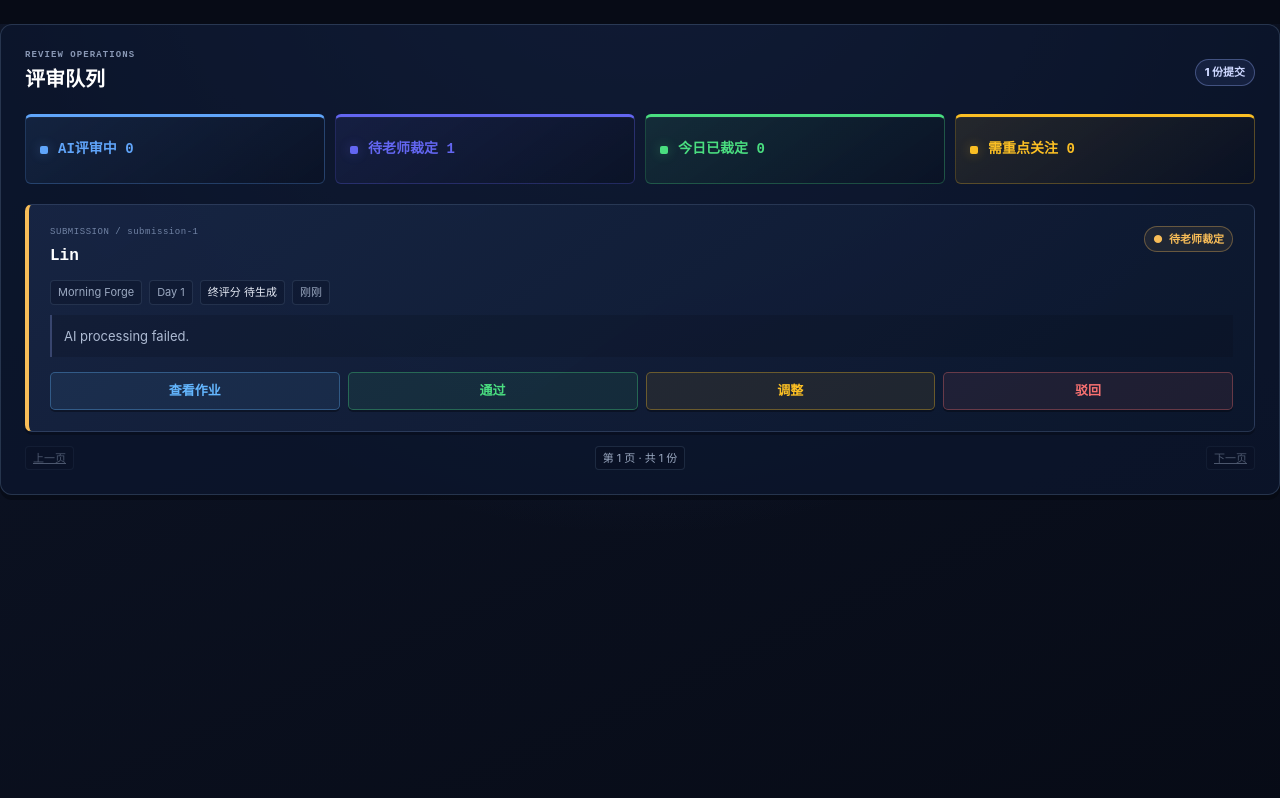
Scenario: ReviewQueue › loads and displays the complete submission detail
This screenshot has width=1280, height=798.
Click the button "查看作业" at (195, 391), box [50,372,340,410]
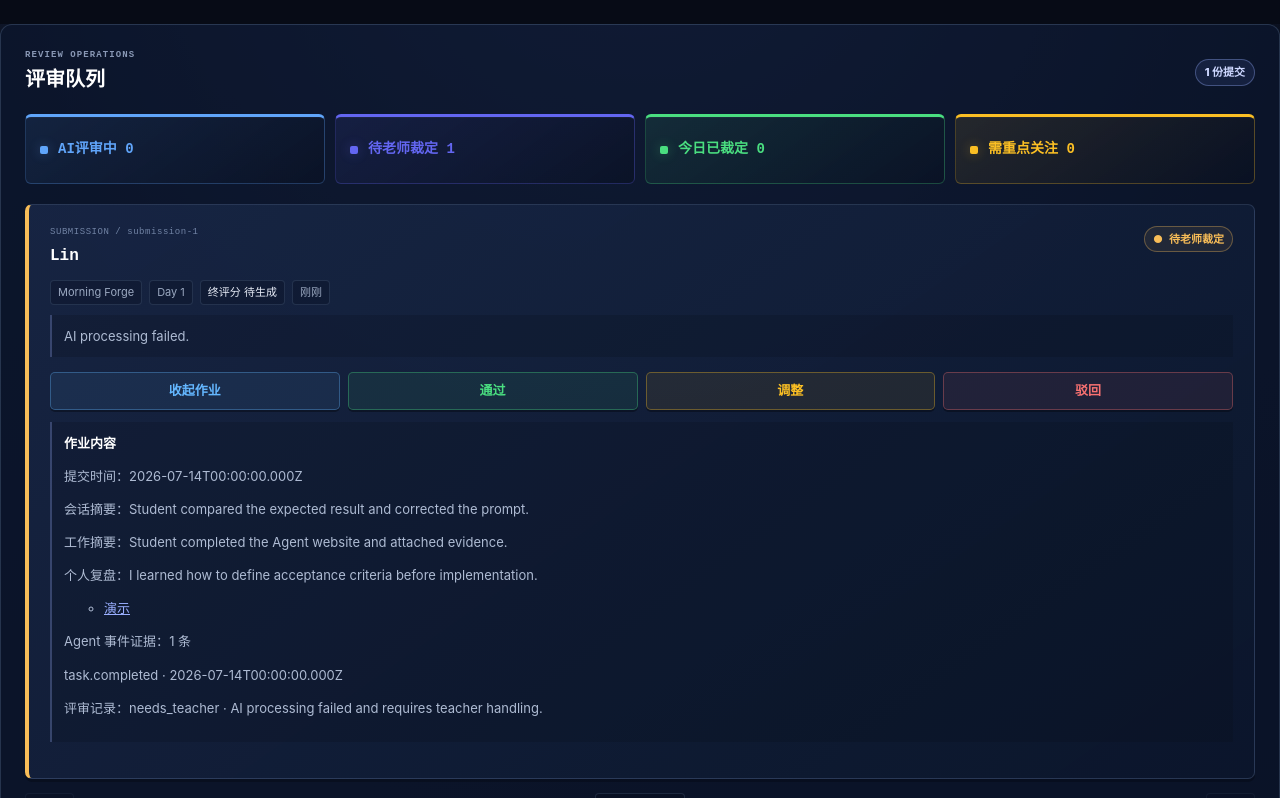
Check: the text "Student completed the Agent website and attached evidence." is shown, box [129,534,508,550]
Check: the text "task.completed · 2026-07-14T00:00:00.000Z" is shown, box [64,667,343,683]
Check: the text "提交时间：2026-07-14T00:00:00.000Z" is shown, box [64,468,303,484]
